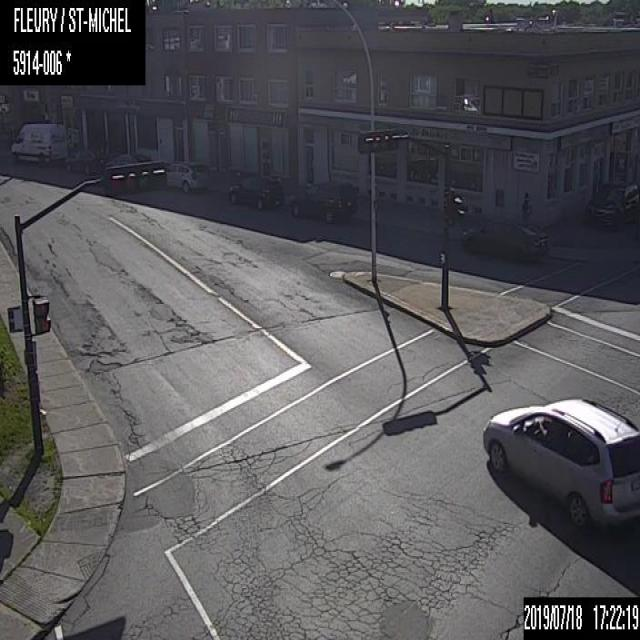pedestrian: (519, 189, 532, 223)
vehicle: (480, 395, 639, 532), (459, 216, 551, 261), (287, 177, 358, 224), (580, 180, 639, 230), (222, 168, 284, 215), (9, 121, 67, 164), (166, 156, 209, 193), (62, 146, 106, 175)
